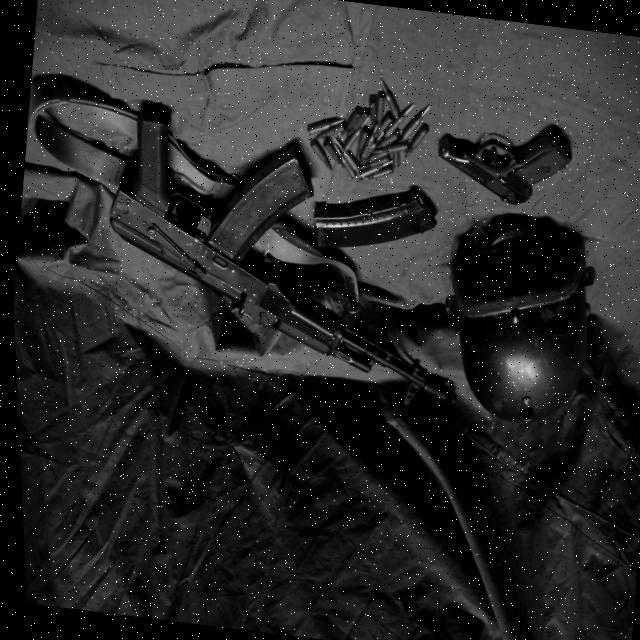firearm: (84, 101, 481, 408)
pistol: (430, 111, 577, 211)
